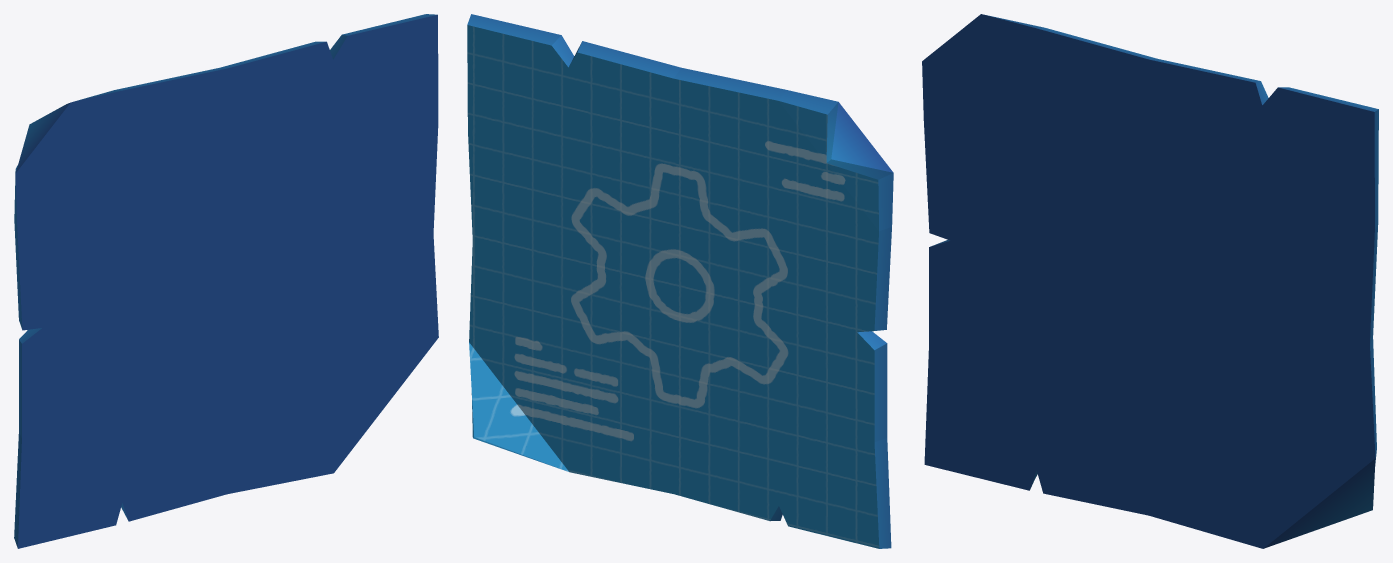
The model's file is blueprint.glb.
3 renders of one model, left to right at view 1: azimuth 30°, elevation 25°; view 2: azimuth 150°, elevation 25°; view 3: azimuth 330°, elevation 25°, orthographic. The views are drawn at different scales.
Parts seen in each view (by area): view 1: blueprint; view 2: blueprint; view 3: blueprint.
Part boxes in pixels (box(x1,y1,x2,y2)): blueprint: box(14, 14, 438, 548); blueprint: box(467, 14, 893, 548); blueprint: box(922, 14, 1378, 548).
Size of the model in its own units: 1.32 by 1.29 by 0.1598.
Materials: 2 (2 with a texture image).
